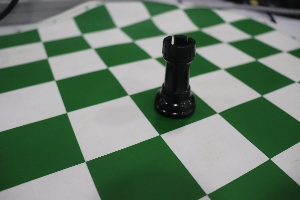black_rook: (153, 23, 202, 125)
